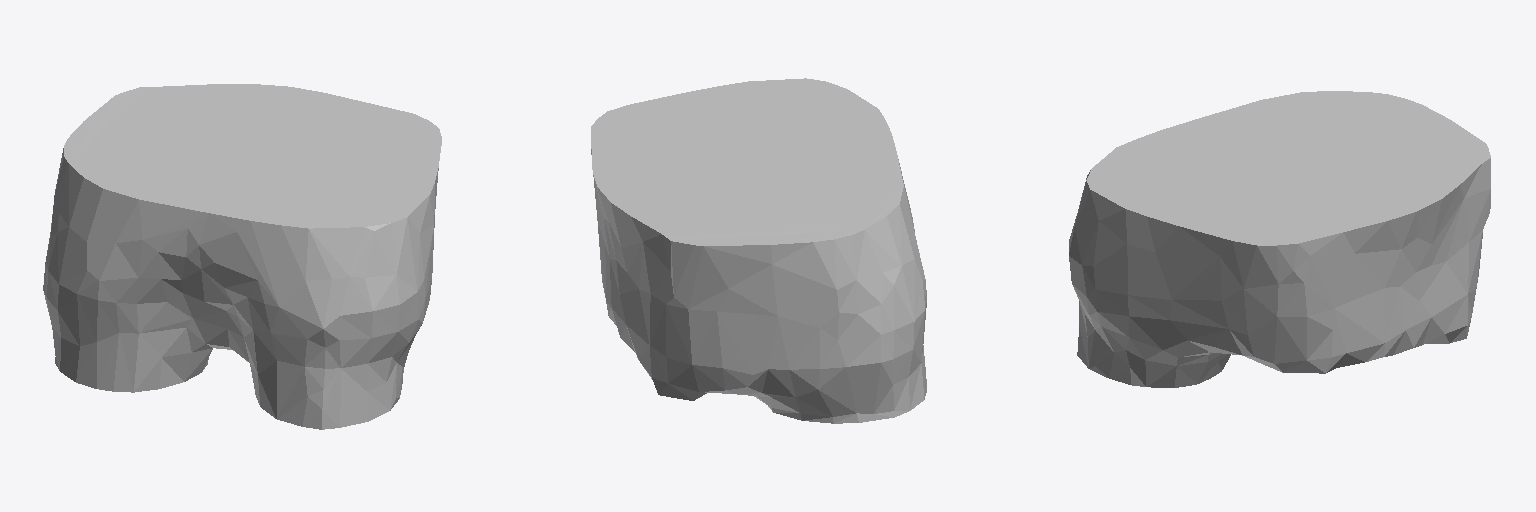
3 views of the same model, side by side, from view 1: azimuth 30°, elevation 25°; view 2: azimuth 150°, elevation 25°; view 3: azimuth 270°, elevation 25° (orthographic).
Visible parts, largest first — view 1: low.020_Fotogrametria_MarioGomes_V01_Model_2.021; view 2: low.020_Fotogrametria_MarioGomes_V01_Model_2.021; view 3: low.020_Fotogrametria_MarioGomes_V01_Model_2.021.
Boxes of the visible parts, x1,y1,x2,y2 form: low.020_Fotogrametria_MarioGomes_V01_Model_2.021: [43, 84, 441, 429]; low.020_Fotogrametria_MarioGomes_V01_Model_2.021: [591, 78, 926, 423]; low.020_Fotogrametria_MarioGomes_V01_Model_2.021: [1069, 91, 1490, 387].
Bounding box in the file's own units: 0.3851 × 0.202 × 0.41.